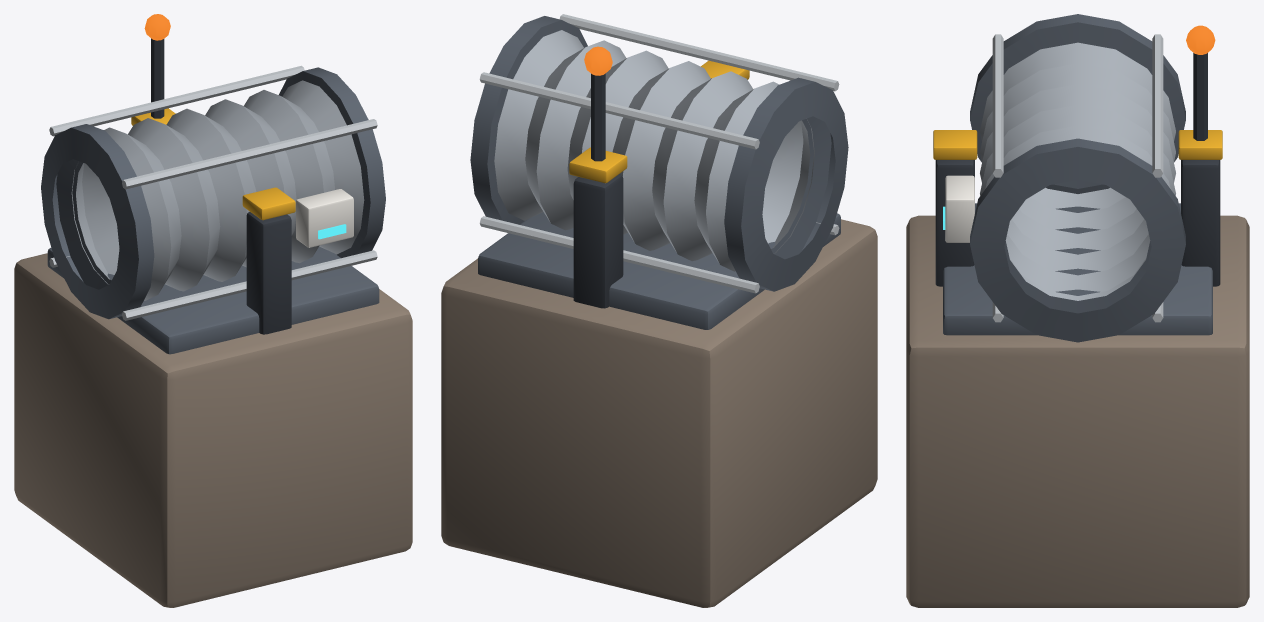
The model's file is pipe_expansion.glb.
3 renders of one model, left to right at view 1: azimuth 30°, elevation 25°; view 2: azimuth 150°, elevation 25°; view 3: azimuth 270°, elevation 25°, orthographic. The views are drawn at different scales.
Visible parts, largest first — view 1: pipe_expansion; view 2: pipe_expansion; view 3: pipe_expansion.
Part boxes in pixels (x1,y1,x2,y2): pipe_expansion: [14, 14, 412, 607]; pipe_expansion: [441, 14, 877, 607]; pipe_expansion: [906, 14, 1249, 607].
Size of the model in its own units: 1.32 by 2.33 by 1.4.
